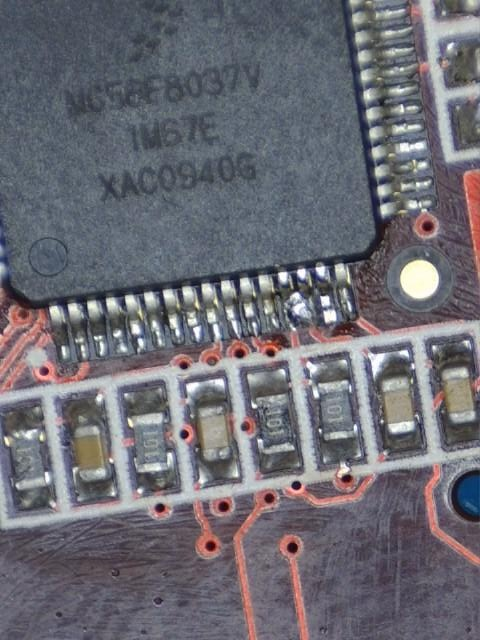pcb_defect: (277, 268, 313, 329)
